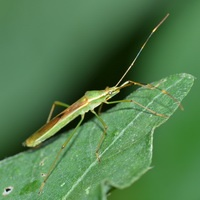insect: (23, 13, 193, 199), (94, 102, 132, 134)
